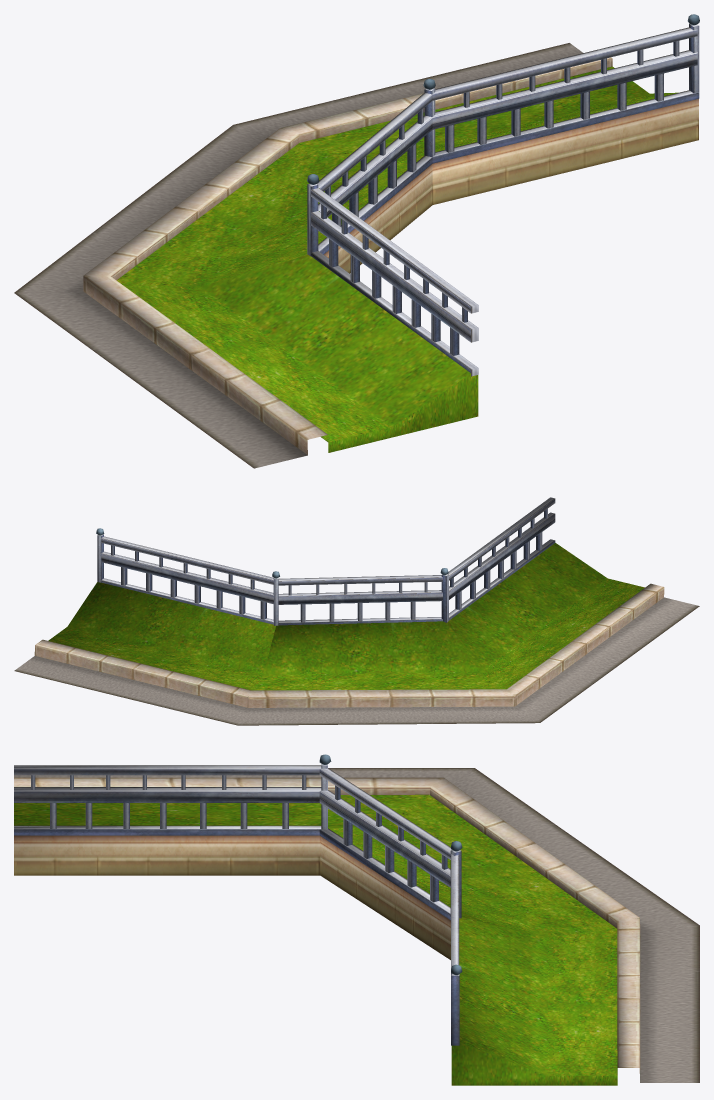
The model's file is a_SElawn01_1.glb.
3 views of the same model, one above another, from view 1: azimuth 30°, elevation 25°; view 2: azimuth 150°, elevation 25°; view 3: azimuth 270°, elevation 25° (orthographic). The views are drawn at different scales.
Parts seen in each view (by area): view 1: a_SElawn01_1; view 2: a_SElawn01_1; view 3: a_SElawn01_1.
Part boxes in pixels (x1,y1,x2,y2): a_SElawn01_1: [14, 14, 699, 468]; a_SElawn01_1: [14, 497, 699, 725]; a_SElawn01_1: [14, 754, 699, 1085].
Bounding box in the file's own units: 6.78 × 1.19 × 6.21.
Materials: 1 (1 with a texture image).
